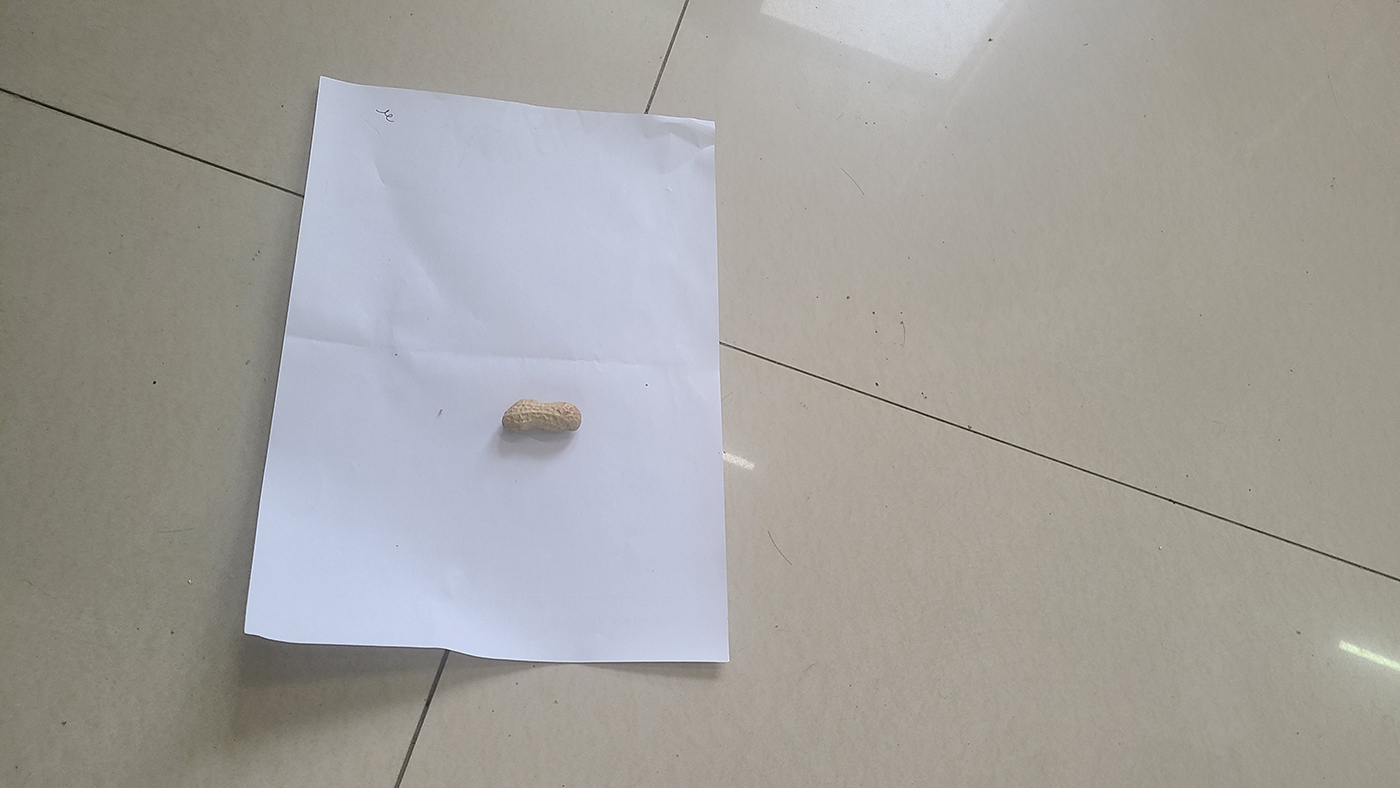h: (501, 398, 582, 432)
